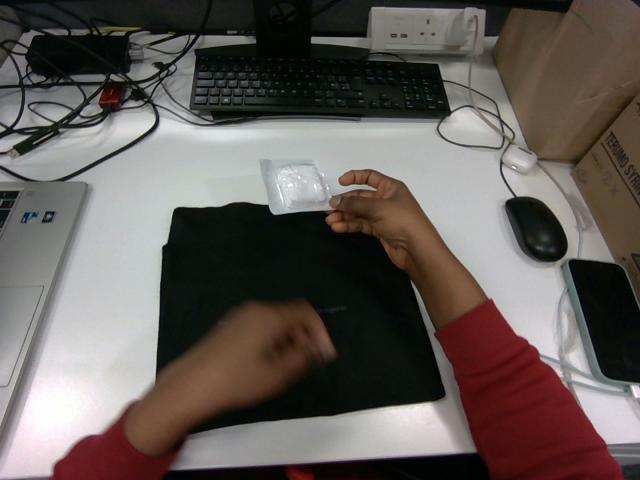gauze: (260, 159, 330, 214)
